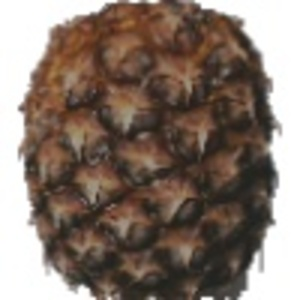abacaxi: (10, 3, 278, 296)
